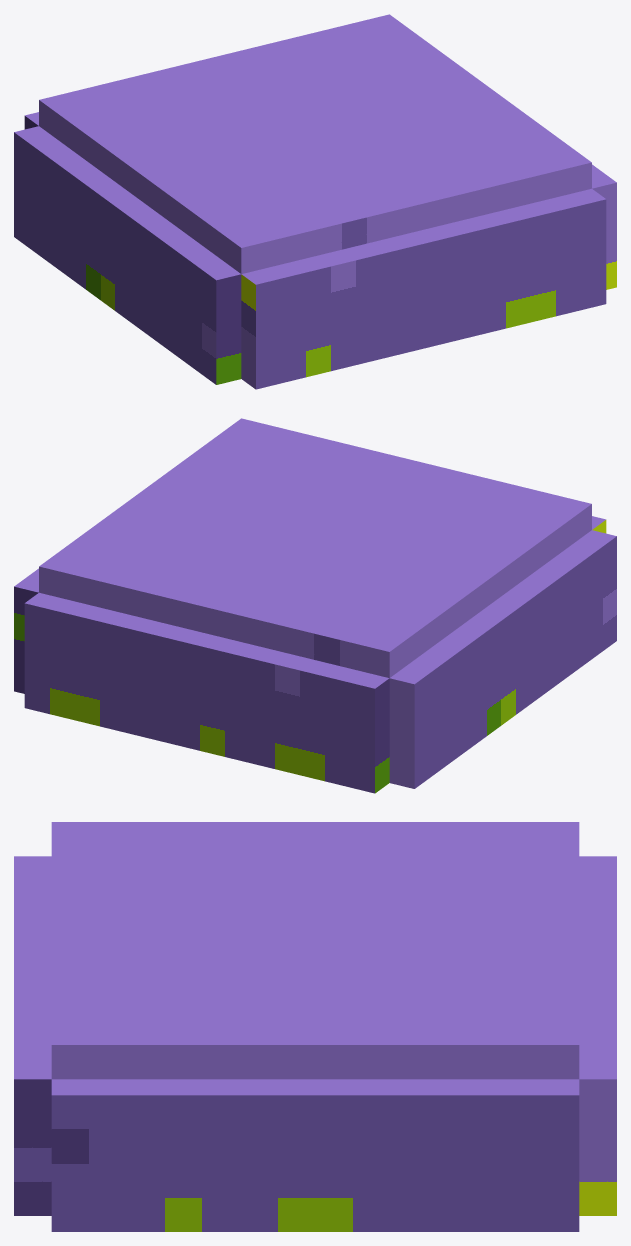
Rendered from waterwheel_baseao.fezao.glb.
3 views of the same model, one above another, from view 1: azimuth 30°, elevation 25°; view 2: azimuth 150°, elevation 25°; view 3: azimuth 270°, elevation 25° (orthographic). The views are drawn at different scales.
Parts seen in each view (by area): view 1: WATERWHEEL_BASEAO; view 2: WATERWHEEL_BASEAO; view 3: WATERWHEEL_BASEAO.
Boxes of the visible parts, box(x1,y1,x2,y2) form: WATERWHEEL_BASEAO: box(14, 14, 616, 389); WATERWHEEL_BASEAO: box(14, 418, 616, 793); WATERWHEEL_BASEAO: box(14, 822, 616, 1231).
Size of the model in its own units: 1 by 0.3125 by 1.
1 material, 1 textured.
